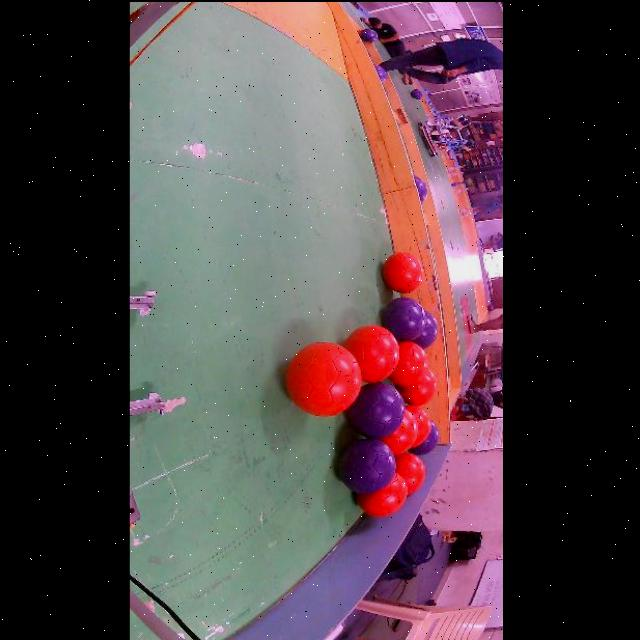P: (348, 381, 406, 437), (339, 438, 396, 492), (383, 295, 427, 339), (409, 420, 440, 454), (413, 309, 439, 347), (415, 174, 427, 200), (361, 26, 379, 41), (375, 61, 387, 79), (412, 87, 423, 98)
R: (287, 342, 362, 416), (344, 324, 400, 381), (356, 470, 409, 516), (390, 341, 429, 385), (382, 408, 419, 454), (383, 251, 423, 292), (399, 369, 438, 404), (396, 452, 426, 494), (406, 404, 431, 446)
